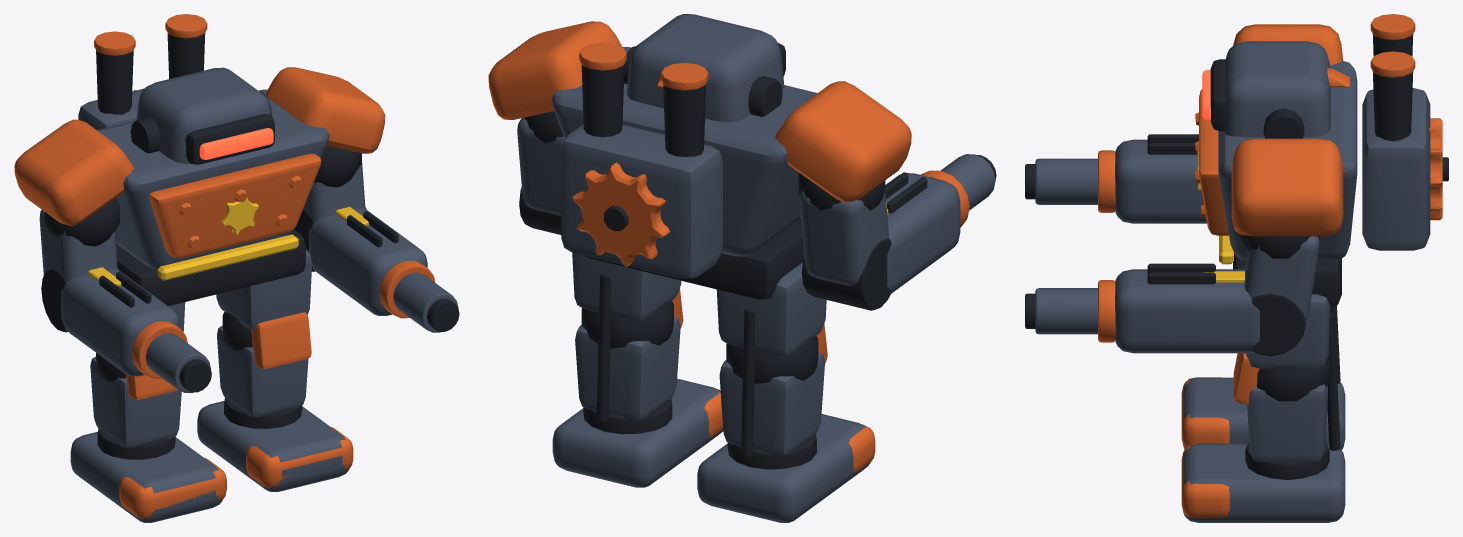
Rendered from rivet.fbx.
3 renders of one model, left to right at view 1: azimuth 30°, elevation 25°; view 2: azimuth 150°, elevation 25°; view 3: azimuth 270°, elevation 25°, orthographic. The views are drawn at different scales.
Parts seen in each view (by area): view 1: Plates, Legs, Dark, Body, Arm_R, Arm_L, Trim, Eye; view 2: Legs, Body, Dark, Plates, Arm_R, Arm_L; view 3: Plates, Body, Legs, Dark, Arm_L, Arm_R, Trim.
Boxes of the visible parts, left/top/right/bottom form: Plates: left=14, top=14, right=435, bottom=518; Legs: left=70, top=249, right=349, bottom=522; Dark: left=41, top=32, right=459, bottom=459; Body: left=78, top=67, right=329, bottom=270; Arm_R: left=39, top=210, right=210, bottom=392; Arm_L: left=303, top=163, right=458, bottom=332; Trim: left=88, top=197, right=368, bottom=286; Eye: left=199, top=128, right=273, bottom=159; Legs: left=552, top=253, right=870, bottom=522; Body: left=551, top=14, right=817, bottom=278; Dark: left=519, top=43, right=996, bottom=469; Plates: left=488, top=21, right=969, bottom=472; Arm_R: left=799, top=154, right=995, bottom=293; Arm_L: left=517, top=118, right=564, bottom=215; Plates: left=1098, top=14, right=1442, bottom=517; Body: left=1218, top=41, right=1430, bottom=260; Legs: left=1181, top=294, right=1345, bottom=522; Dark: left=1025, top=34, right=1448, bottom=479; Arm_L: left=1035, top=236, right=1319, bottom=353; Arm_R: left=1035, top=139, right=1206, bottom=223; Trim: left=1197, top=151, right=1244, bottom=282.
Size of the model in its own units: 6.07 by 6.97 by 6.22.
